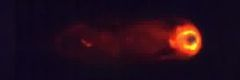keyhole: (185, 33, 198, 45)
